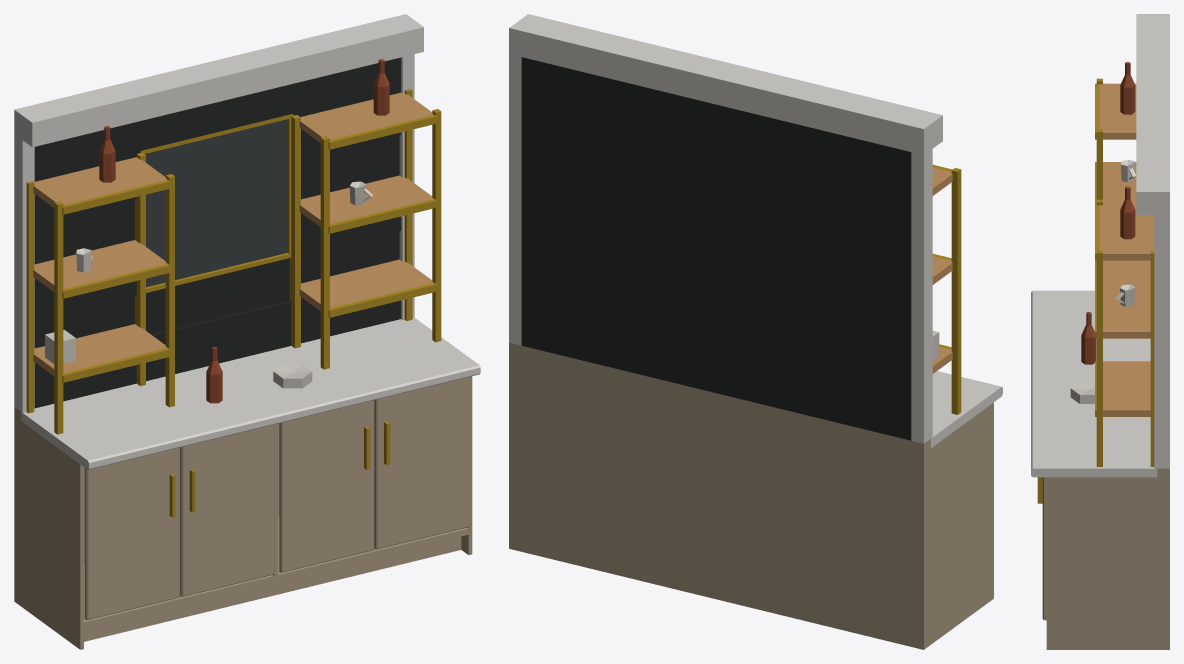
The model's file is back-bar-shelf-unit-11ab89.glb.
3 views of the same model, side by side, from view 1: azimuth 30°, elevation 25°; view 2: azimuth 150°, elevation 25°; view 3: azimuth 270°, elevation 25° (orthographic). The views are drawn at different scales.
Parts seen in each view (by area): view 1: back-bar-shelf-unit, door-l1, door-r2, door-l2, door-r1, ware; view 2: back-bar-shelf-unit; view 3: back-bar-shelf-unit, ware, door-r2.
Boxes of the visible parts, x1,y1,x2,y2 form: back-bar-shelf-unit: [14, 14, 480, 649]; door-l1: [84, 447, 195, 620]; door-r2: [364, 377, 469, 549]; door-l2: [279, 400, 390, 572]; door-r1: [169, 424, 274, 596]; ware: [45, 59, 389, 403]; back-bar-shelf-unit: [509, 14, 1002, 649]; back-bar-shelf-unit: [1031, 14, 1169, 649]; ware: [1070, 62, 1136, 403]; door-r2: [1042, 477, 1046, 620].
Bounding box in the file's own units: 2 × 2.4 × 0.66.
